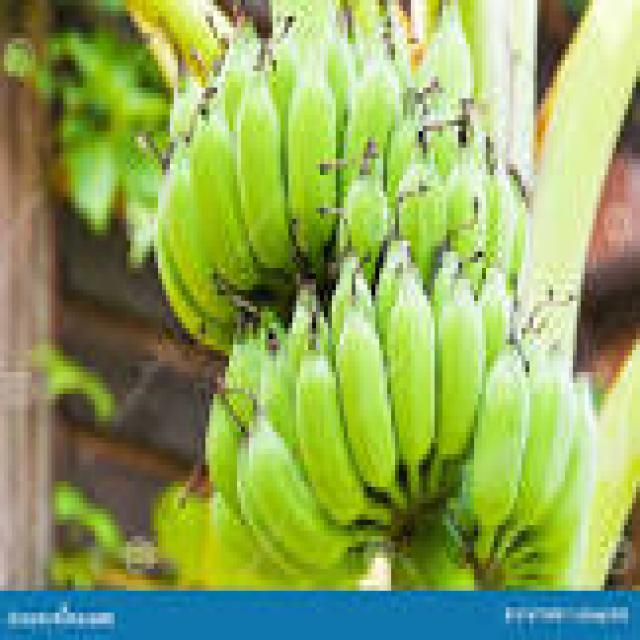banana: (241, 416, 355, 568), (297, 340, 387, 525), (159, 148, 237, 322), (336, 307, 402, 508), (190, 104, 260, 289), (471, 351, 529, 563), (384, 269, 434, 497), (238, 72, 292, 273), (289, 61, 339, 273), (514, 356, 576, 525), (206, 334, 264, 508), (155, 225, 233, 350), (435, 279, 485, 459), (340, 55, 402, 196), (210, 493, 288, 590), (396, 165, 450, 284), (415, 0, 474, 103), (340, 176, 391, 284), (447, 154, 485, 289), (261, 323, 296, 454), (332, 258, 375, 350), (222, 28, 260, 131), (376, 241, 410, 344), (486, 165, 517, 273), (479, 269, 513, 366), (384, 115, 418, 207)
